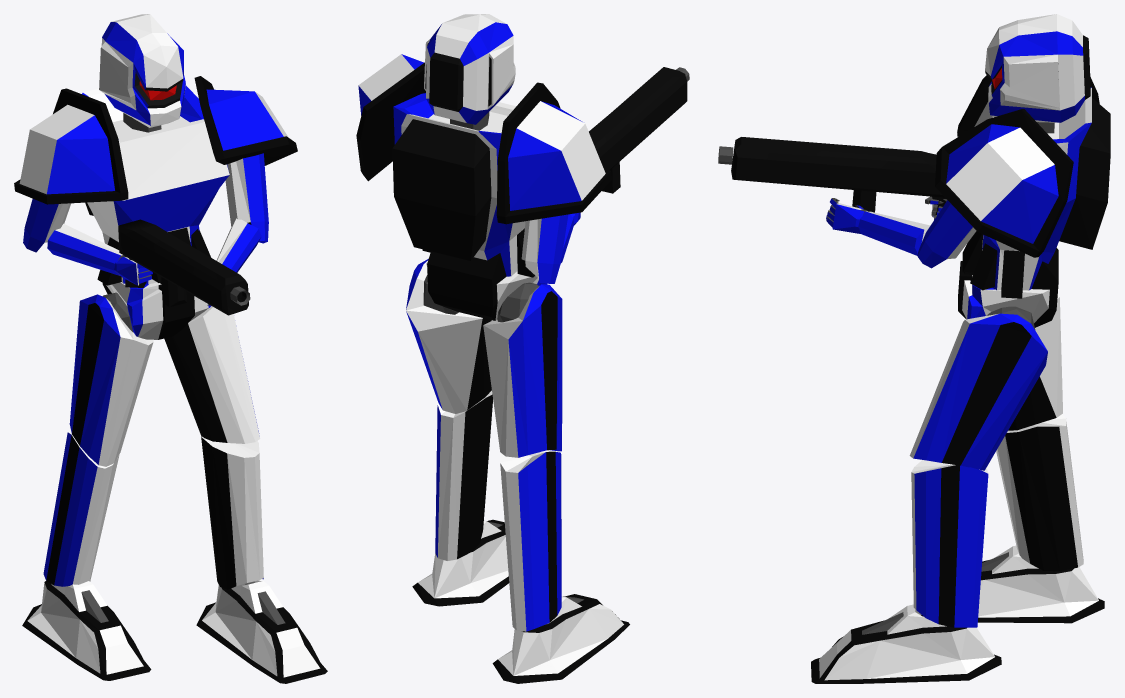
Rendered from robots_000003.obj.
The picture shows the model from 3 angles, left to right: view 1: azimuth 30°, elevation 25°; view 2: azimuth 150°, elevation 25°; view 3: azimuth 270°, elevation 25°; orthographic projection. The views are drawn at different scales.
Parts seen in each view (by area): view 1: Chest_plate_Cube.004, R_Thigh_Cube.005, Cube.002_Cube.059, R_Thigh.002_Cube.027, Head_base_Cube.022, R_Shin.002_Cube.029, R_Foot.002_Cube.035, R_Foot_Cube, R_Shin_Cube.007, Cube_Cube.001, Cube_Cube.021, Pelvis_Cube.006 (+5 smaller); view 2: Chest_plate_Cube.004, Cube.002_Cube.059, R_Thigh_Cube.005, R_Shin_Cube.007, Head_base_Cube.022, R_Shin.002_Cube.029, R_Thigh.002_Cube.027, R_Foot_Cube, Cube_Cube.001, Cube_Cube.021, R_Foot.002_Cube.035, Pelvis_Cube.006 (+2 smaller); view 3: Cube_Cube.021, R_Thigh.002_Cube.027, R_Shin.002_Cube.029, Chest_plate_Cube.004, Cube_Cube.001, R_Shin_Cube.007, R_Foot.002_Cube.035, Head_base_Cube.022, R_Foot_Cube, Pelvis_Cube.006, R_Thigh_Cube.005, L_Arm_Cube.014 (+3 smaller).
Boxes of the visible parts, <box> form: Chest_plate_Cube.004: <box>82,85,229,287</box>; R_Thigh_Cube.005: <box>69,294,153,466</box>; Cube.002_Cube.059: <box>14,88,128,204</box>; R_Thigh.002_Cube.027: <box>164,306,260,443</box>; Head_base_Cube.022: <box>99,14,185,127</box>; R_Shin.002_Cube.029: <box>201,436,263,589</box>; R_Foot.002_Cube.035: <box>196,580,327,683</box>; R_Foot_Cube: <box>22,581,151,680</box>; R_Shin_Cube.007: <box>43,432,119,586</box>; Cube_Cube.001: <box>118,219,250,315</box>; Cube_Cube.021: <box>194,76,297,165</box>; Pelvis_Cube.006: <box>102,282,210,339</box>; Chest_plate_Cube.004: <box>392,93,535,277</box>; Cube.002_Cube.059: <box>496,82,611,224</box>; R_Thigh_Cube.005: <box>483,284,562,457</box>; R_Shin_Cube.007: <box>500,451,561,631</box>; Head_base_Cube.022: <box>424,14,515,124</box>; R_Shin.002_Cube.029: <box>435,390,492,560</box>; R_Thigh.002_Cube.027: <box>406,259,491,413</box>; R_Foot_Cube: <box>492,594,629,683</box>; Cube_Cube.001: <box>589,67,689,193</box>; Cube_Cube.021: <box>356,54,425,181</box>; R_Foot.002_Cube.035: <box>412,519,509,606</box>; Pelvis_Cube.006: <box>426,251,547,320</box>; Cube_Cube.021: <box>935,109,1073,257</box>; R_Thigh.002_Cube.027: <box>909,313,1047,470</box>; R_Shin.002_Cube.029: <box>911,460,988,627</box>; Chest_plate_Cube.004: <box>962,87,1110,298</box>; Cube_Cube.001: <box>718,137,946,212</box>; R_Shin_Cube.007: <box>996,414,1083,571</box>; R_Foot.002_Cube.035: <box>811,604,1001,683</box>; Head_base_Cube.022: <box>985,14,1090,122</box>; R_Foot_Cube: <box>978,545,1104,623</box>; Pelvis_Cube.006: <box>958,247,1058,327</box>; R_Thigh_Cube.005: <box>1008,293,1062,430</box>; L_Arm_Cube.014: <box>917,200,976,268</box>.
Size of the model in its own units: 1.32 by 3.05 by 1.74.
